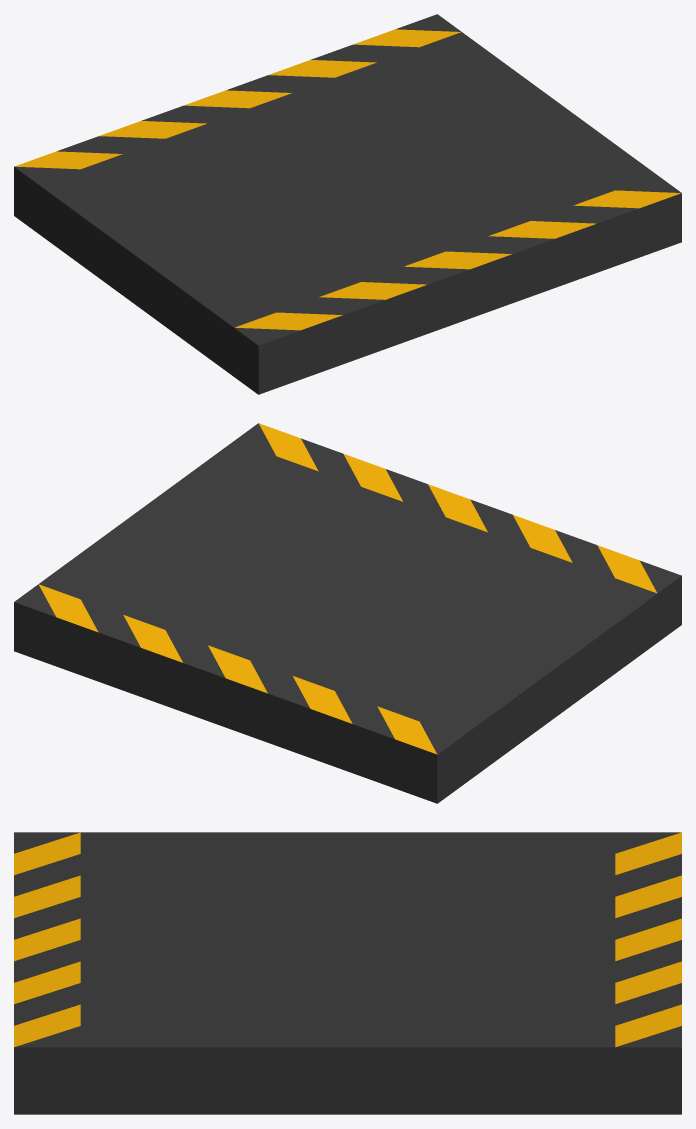
The picture shows the model from 3 angles, top to bottom: view 1: azimuth 30°, elevation 25°; view 2: azimuth 150°, elevation 25°; view 3: azimuth 270°, elevation 25°; orthographic projection. The views are drawn at different scales.
Visible parts, largest first — view 1: b0; view 2: b0; view 3: b0.
Boxes of the visible parts, x1=… form: b0: x1=14, y1=14, x2=681, y2=394; b0: x1=14, y1=423, x2=681, y2=803; b0: x1=14, y1=832, x2=681, y2=1114.
Size of the model in its own units: 9 by 2 by 9.
